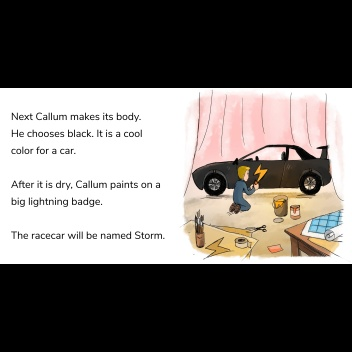latin: (9, 176, 162, 192), (8, 228, 166, 241), (9, 108, 142, 122), (8, 192, 104, 210), (10, 127, 143, 138), (10, 144, 76, 156)
